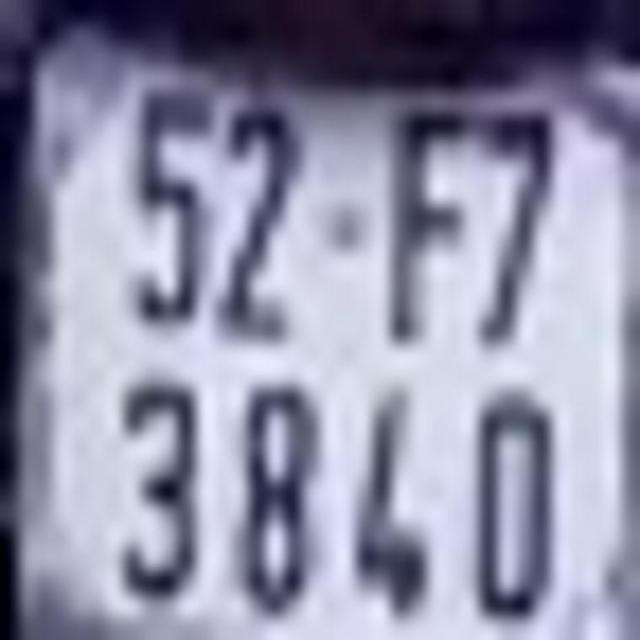0: (479, 384, 555, 618)
2: (216, 98, 292, 332)
3: (113, 372, 196, 604)
4: (362, 383, 435, 620)
5: (122, 85, 206, 318)
7: (481, 101, 551, 342)
8: (234, 376, 318, 611)
F: (388, 92, 472, 348)
